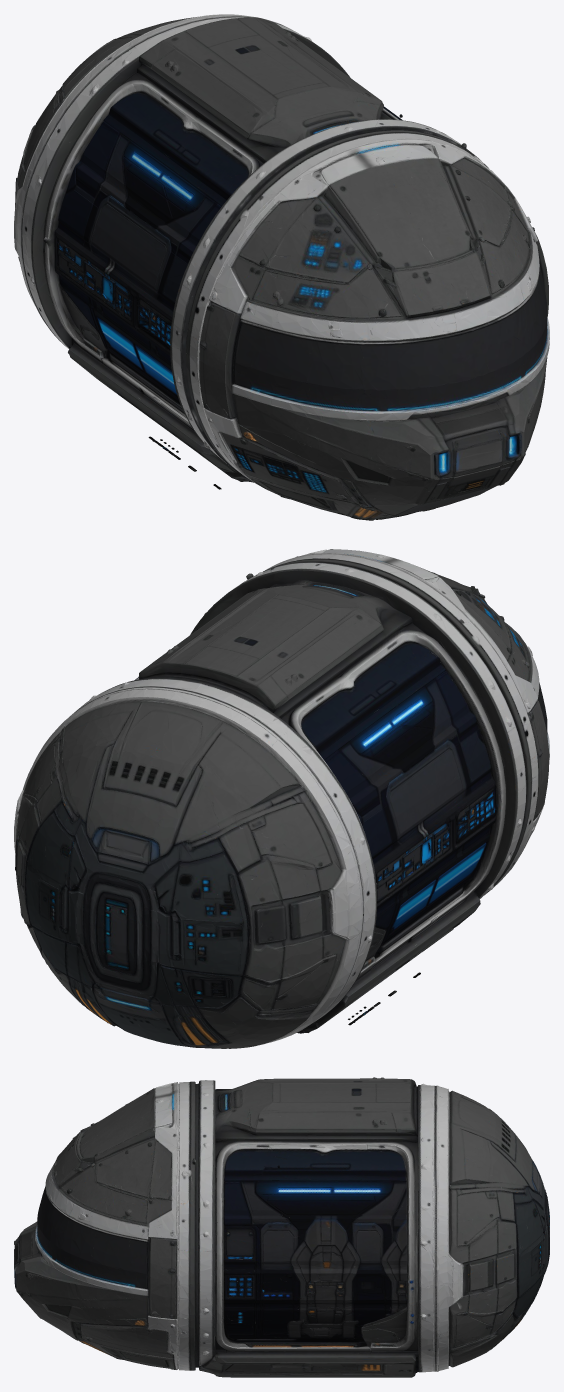
Rendered from cabin.glb.
3 views of the same model, one above another, from view 1: azimuth 30°, elevation 25°; view 2: azimuth 150°, elevation 25°; view 3: azimuth 270°, elevation 25° (orthographic). The views are drawn at different scales.
Bounding box in the file's own units: 0.5487 × 0.5493 × 1.
1 material, 1 textured.
